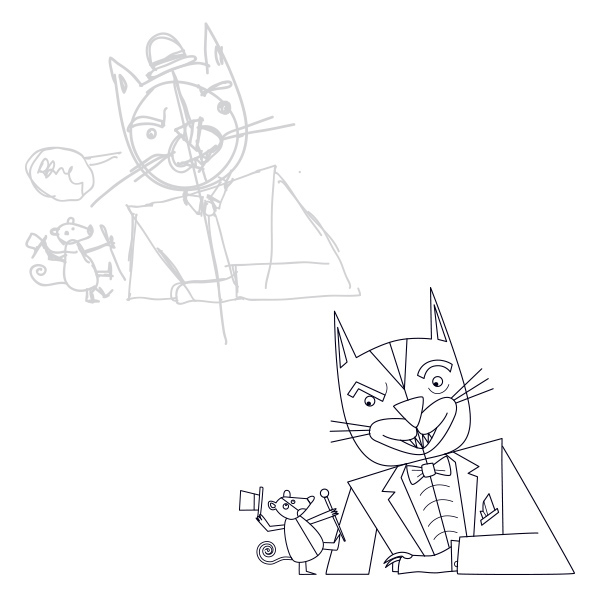cat: (208, 320, 592, 600), (23, 41, 361, 311)
